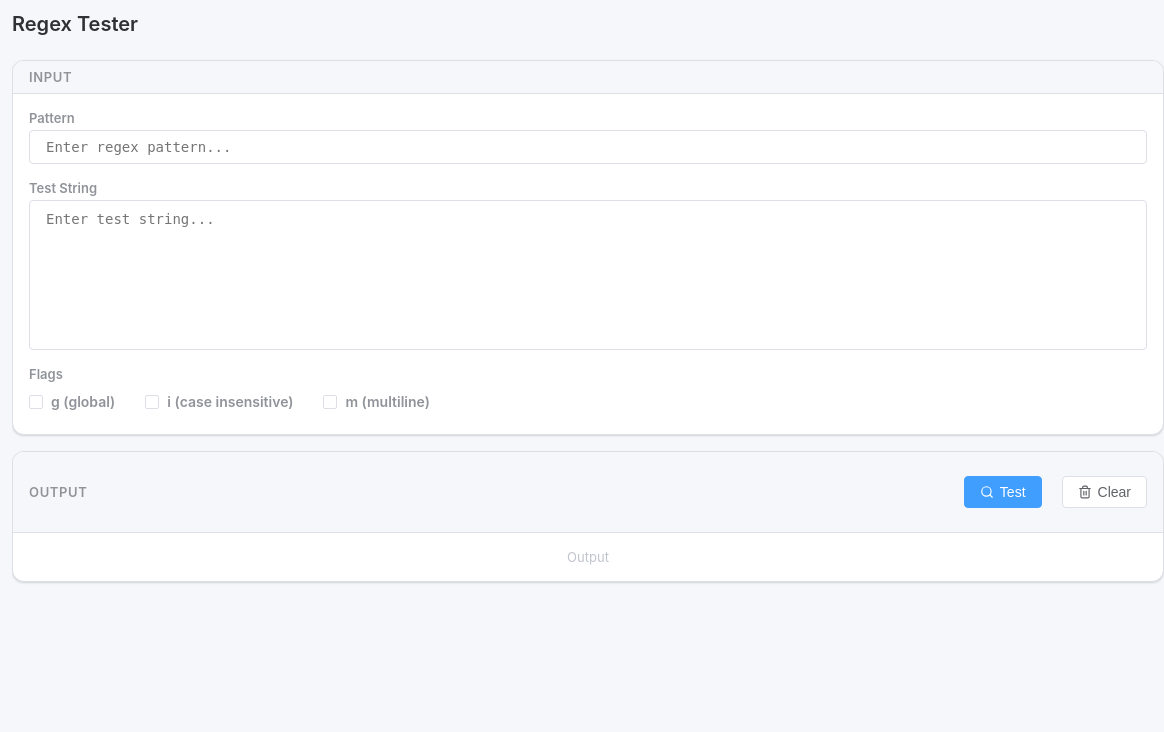
Test: RegexTester › should match regex pattern
Type "\\d+" into the field with class "regex-input". click: (588, 147)
box: [29,130,1147,164]
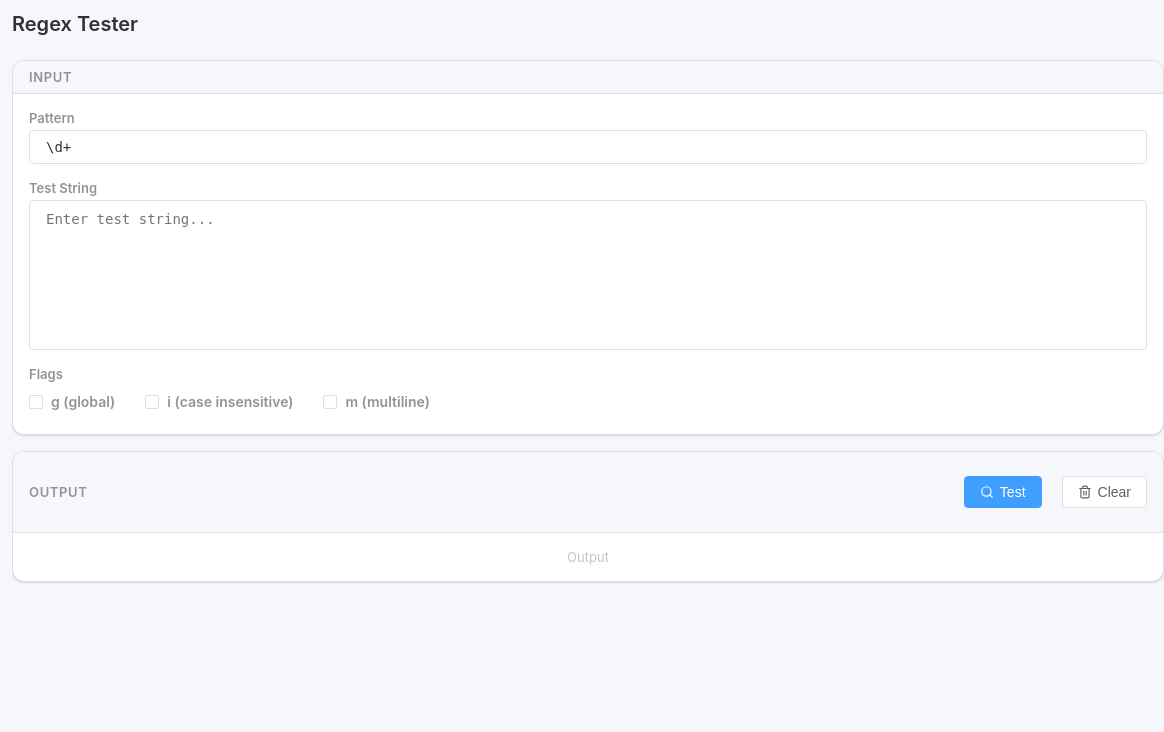
Type "abc123def456" into the text box with class "test-input". click: (588, 275)
box: [29,200,1147,350]
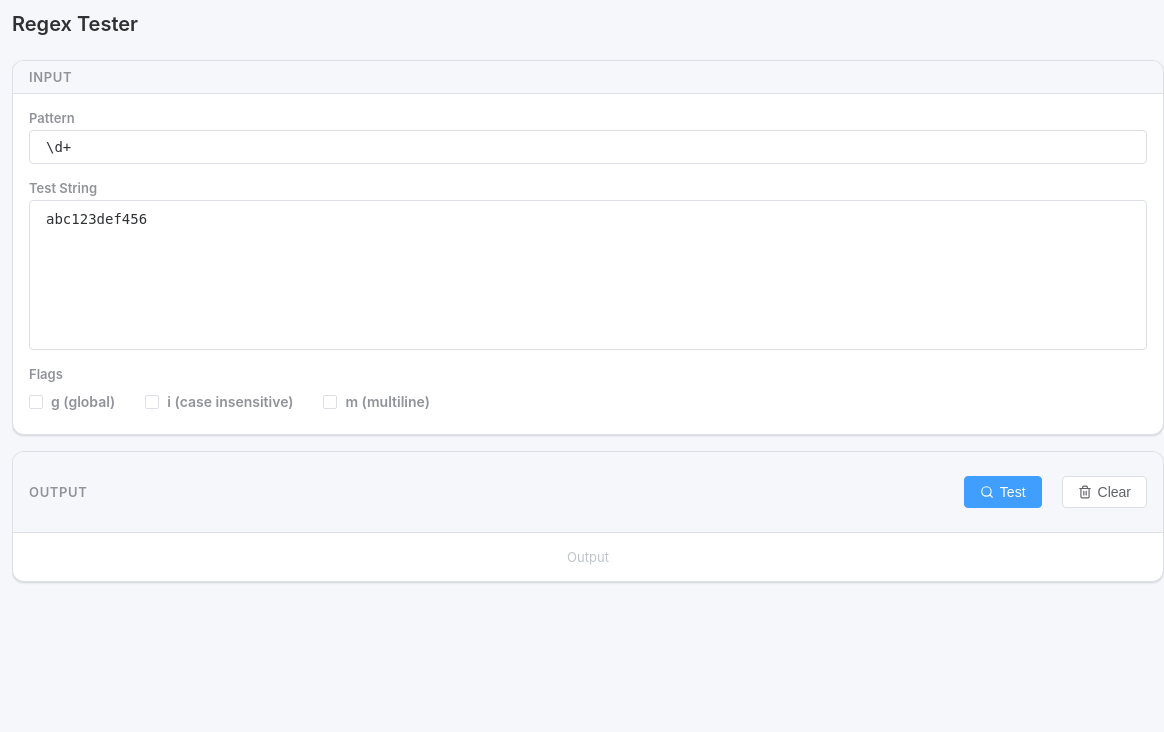
Click the checkbox labelled "g (global)". click: (72, 402)
box: [29,393,115,410]
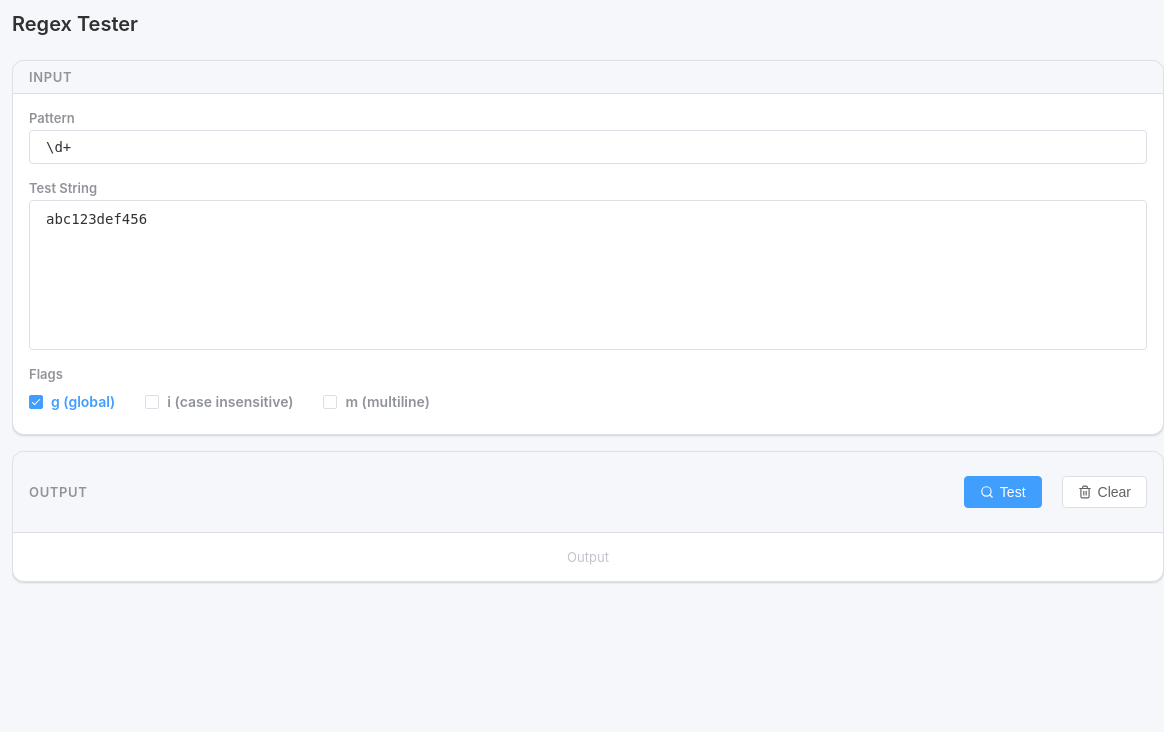
Click the button "Test". click: (1003, 492)
box: [964,476,1042,508]
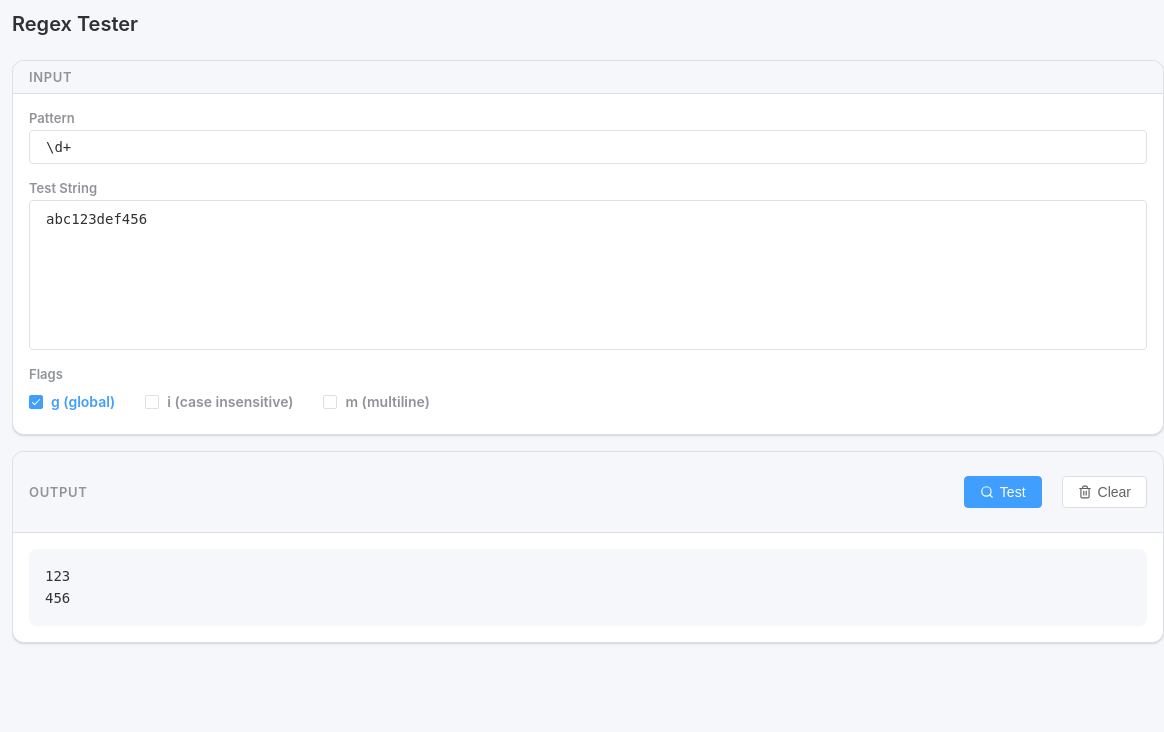
Result: the element with class "code-content" shows "123" at [45,568,70,606]
Result: the element with class "code-content" shows "456" at [45,568,70,606]
